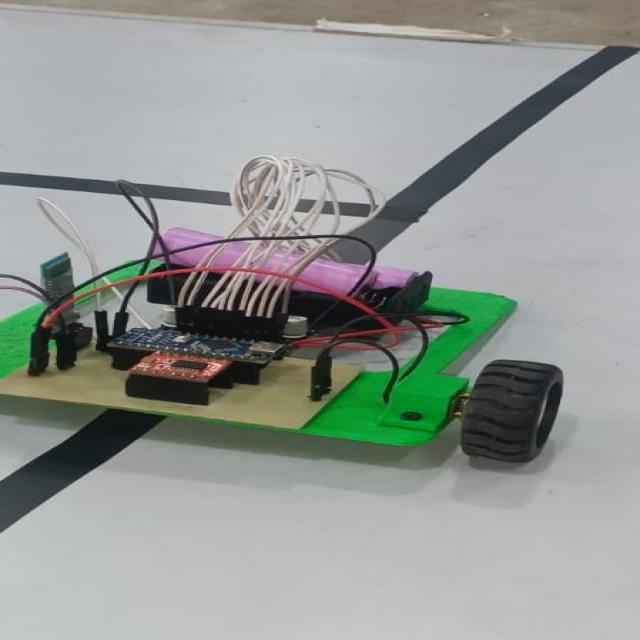vehicle: (0, 157, 569, 455)
